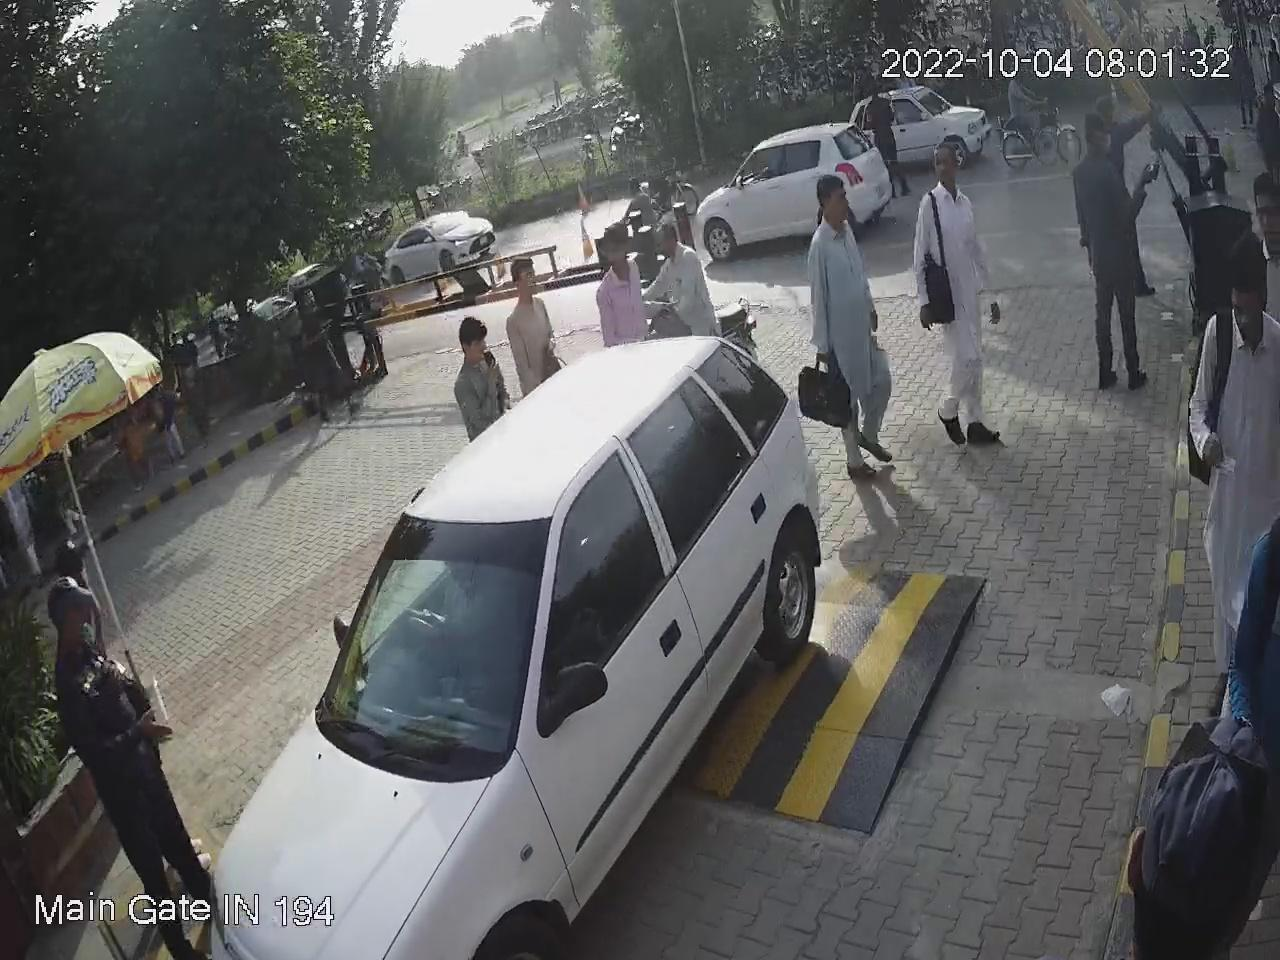windshield: (303, 505, 555, 788)
